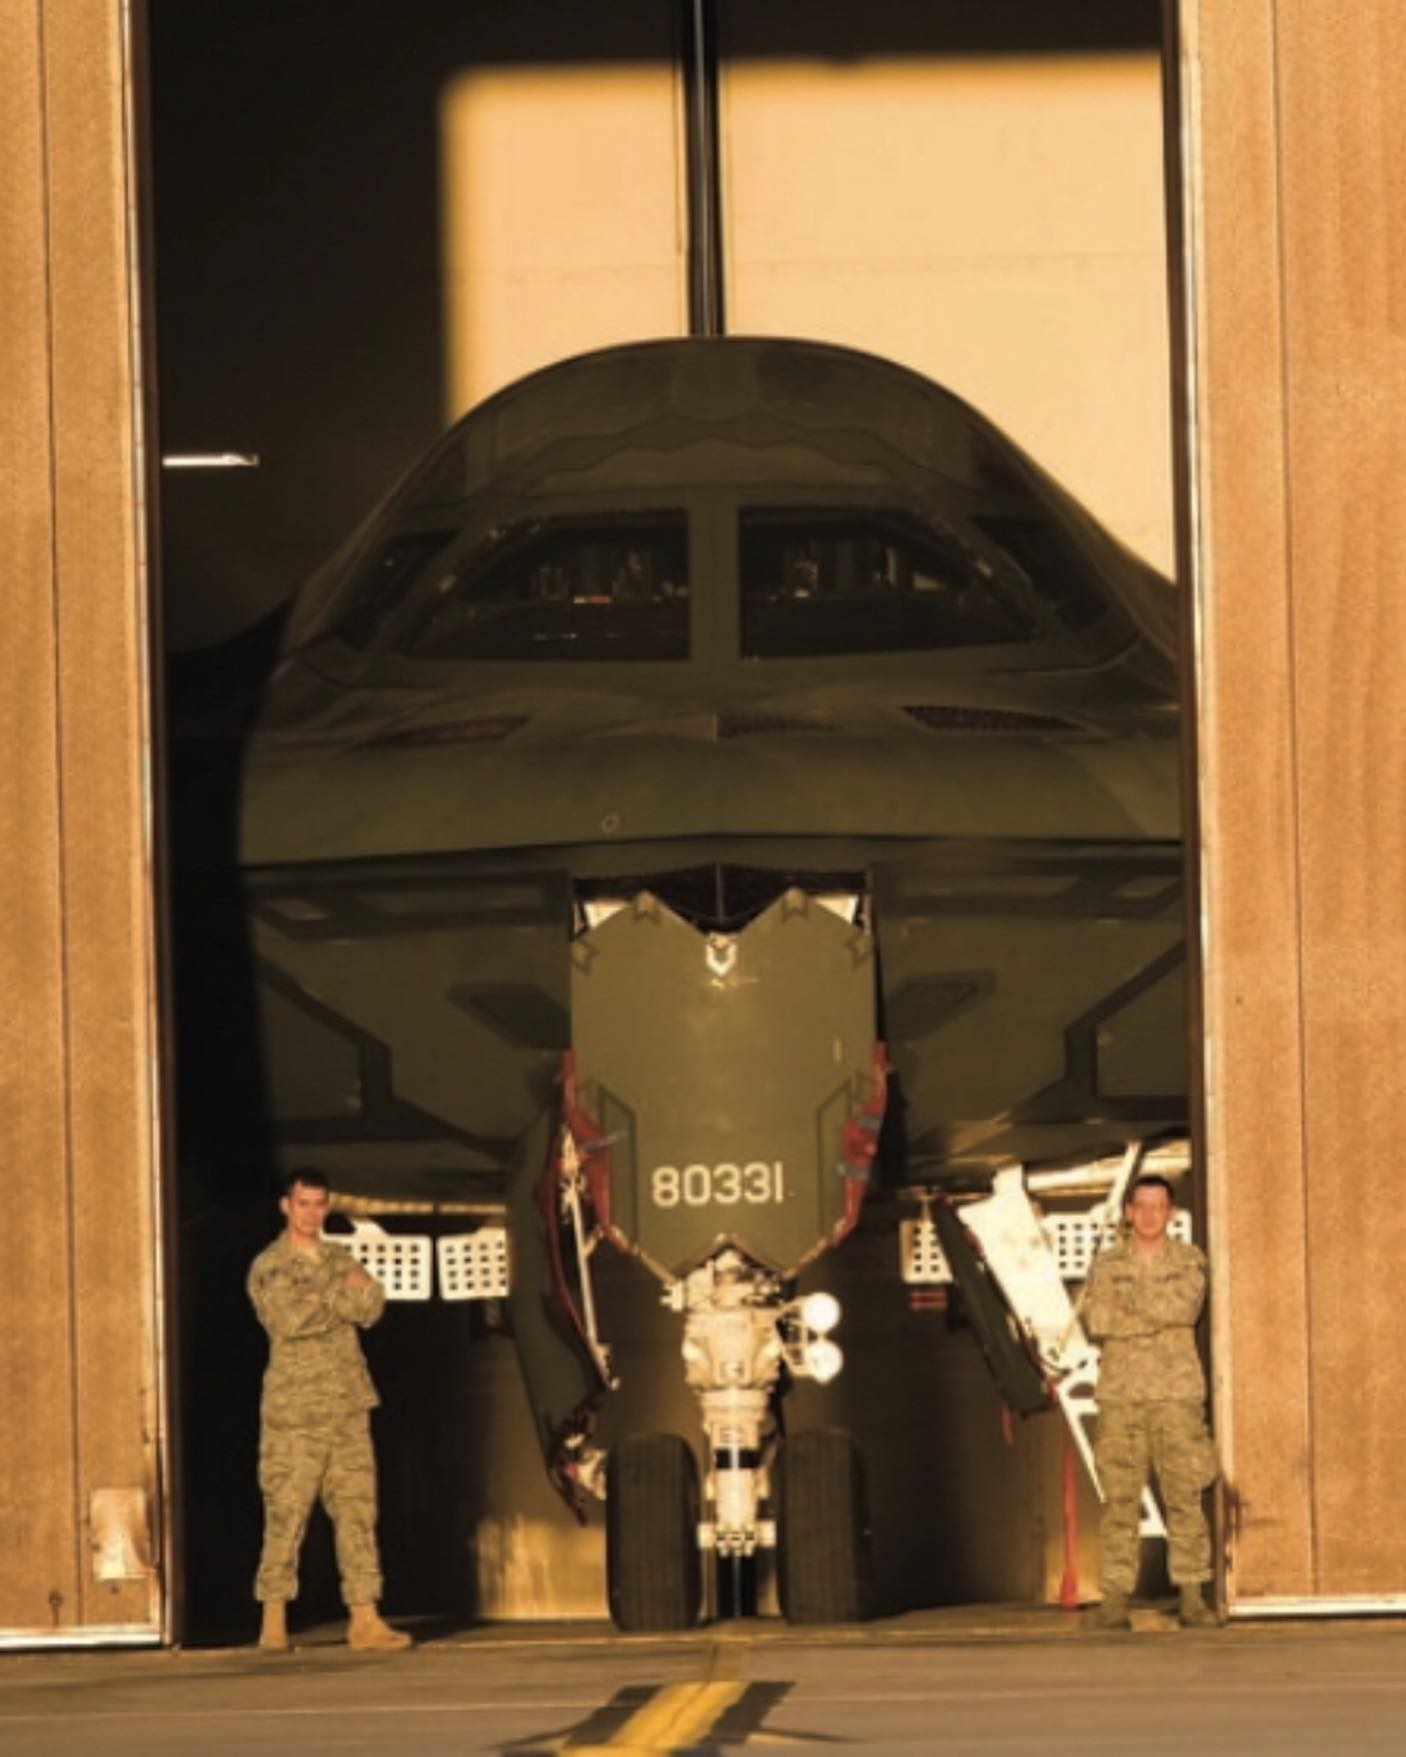B2: (164, 336, 1189, 1634)
